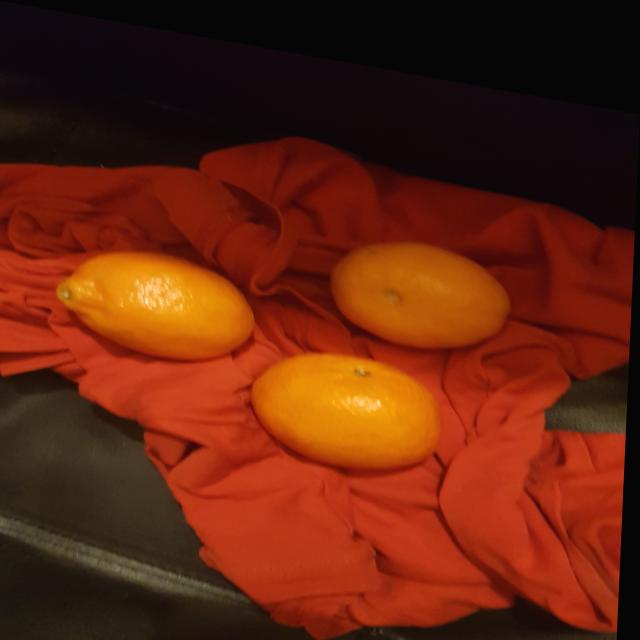Orange: (60, 244, 260, 354), (255, 340, 445, 455), (333, 224, 515, 334)
